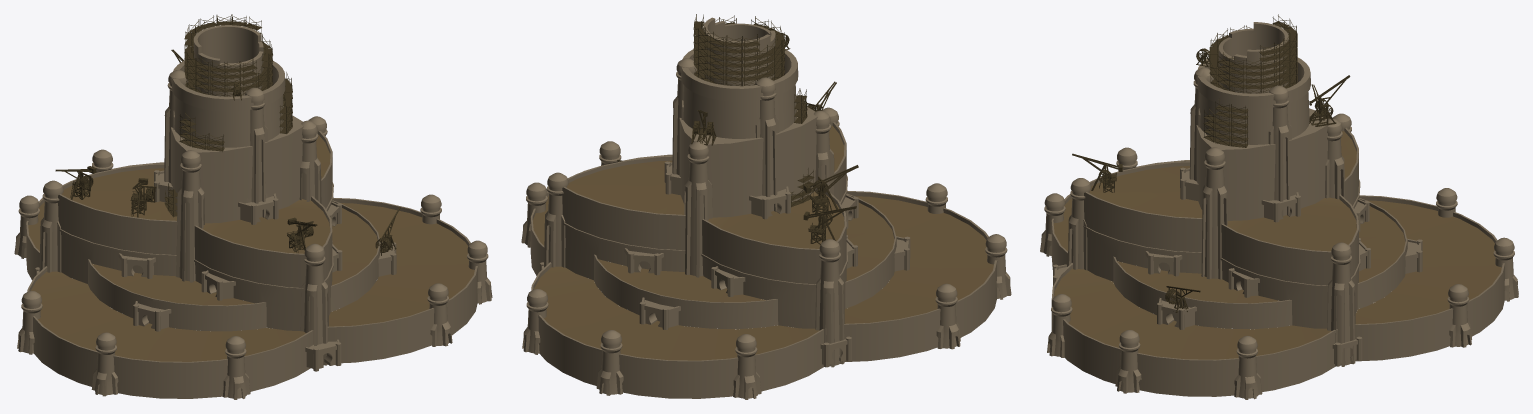
File: hyperstructure3_half-finished_LOW-transformed.glb
3 views of the same model, side by side, from view 1: azimuth 30°, elevation 25°; view 2: azimuth 150°, elevation 25°; view 3: azimuth 270°, elevation 25° (orthographic). The views are drawn at different scales.
Parts seen in each view (by area): view 1: tower_half-finished, tower_half-finished_scaffolds; view 2: tower_half-finished, tower_half-finished_scaffolds; view 3: tower_half-finished, tower_half-finished_scaffolds.
Boxes of the visible parts, box(x1,y1,x2,y2) form: tower_half-finished: box(14, 25, 492, 399); tower_half-finished_scaffolds: box(55, 14, 400, 255); tower_half-finished: box(521, 17, 1011, 399); tower_half-finished_scaffolds: box(617, 14, 858, 244); tower_half-finished: box(1040, 22, 1518, 399); tower_half-finished_scaffolds: box(1072, 14, 1350, 312).
Size of the model in its own units: 3.18 by 1.91 by 3.11.
